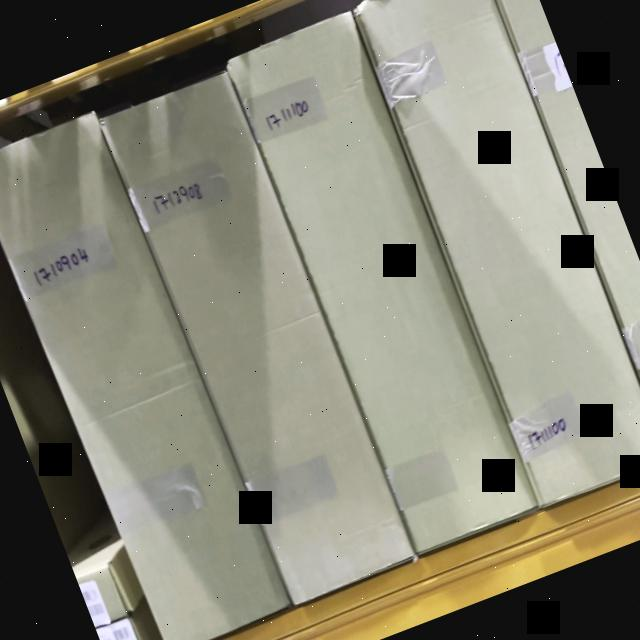box: (230, 19, 538, 552), (107, 72, 414, 606), (0, 114, 283, 640), (356, 0, 640, 503)
